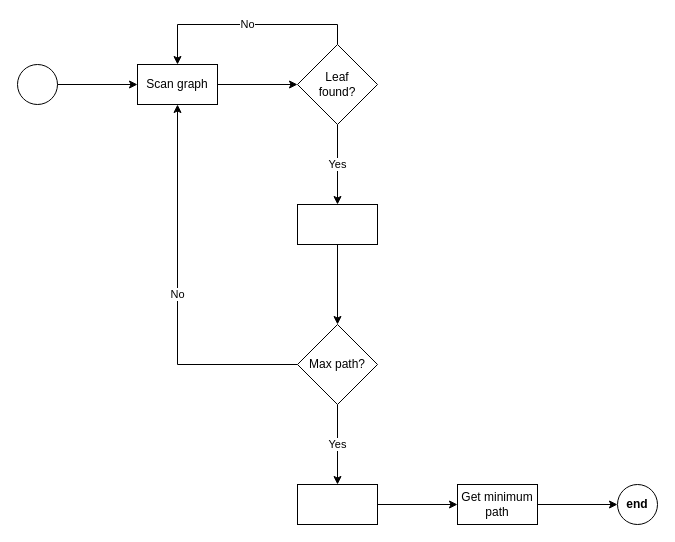
This 675x542 diagram has some shape labels left out. Each missing label, with the centre of its shape:
Get path: point 337,224
Remove nodes: point 337,504
start: point 37,84
